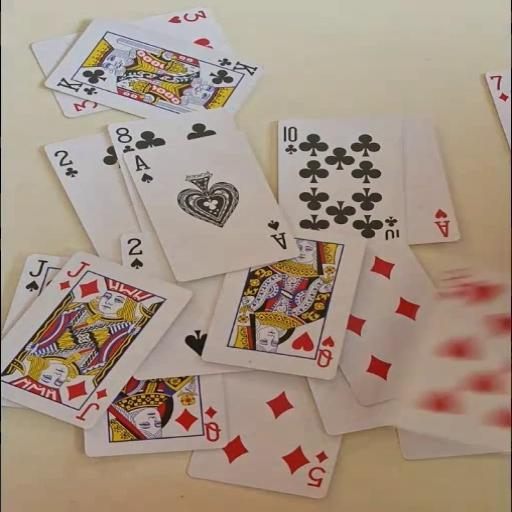10: (281, 124, 299, 155)
2: (50, 148, 80, 178), (126, 236, 146, 270)
3: (165, 8, 208, 24)
5: (304, 448, 331, 489)
7: (487, 73, 510, 102)
8: (112, 125, 136, 154)
A: (264, 217, 288, 251), (432, 206, 452, 238)
J: (71, 386, 110, 422), (55, 259, 92, 291), (23, 258, 49, 292)
K: (53, 74, 100, 96), (214, 55, 260, 77)
Q: (313, 334, 337, 369), (200, 404, 222, 442)
